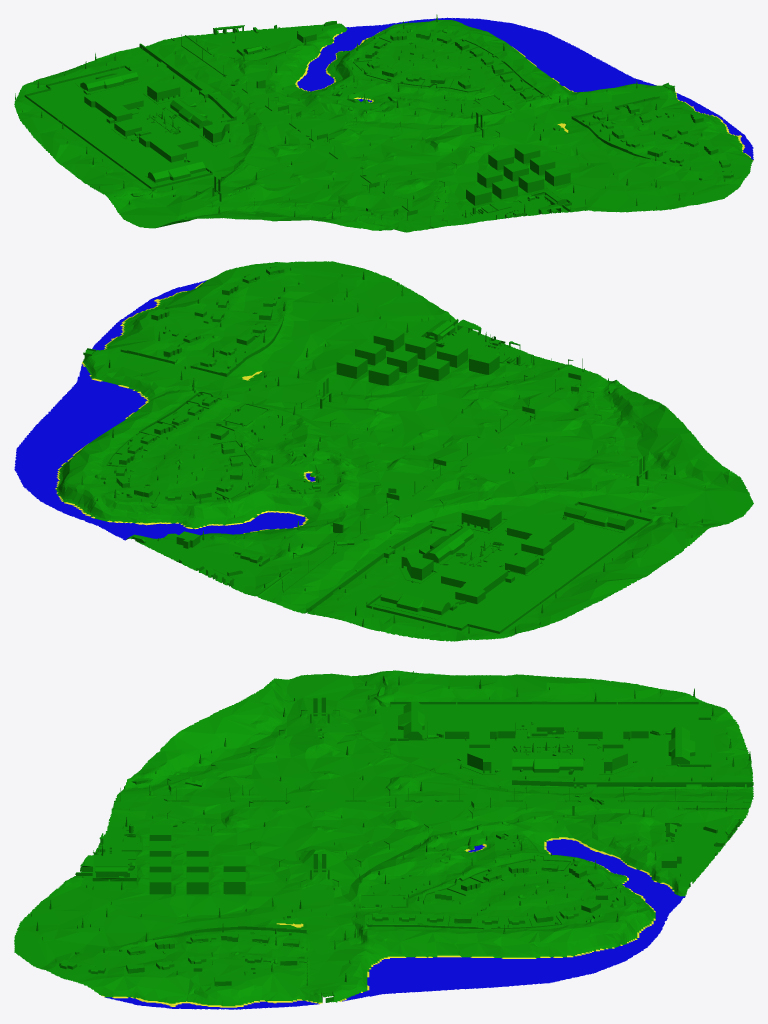
The model's file is preopt.obj.
The picture shows the model from 3 angles, top to bottom: view 1: azimuth 30°, elevation 25°; view 2: azimuth 150°, elevation 25°; view 3: azimuth 270°, elevation 25°; orthographic projection. The views are drawn at different scales.
Parts seen in each view (by area): view 1: ground, deepwater, water; view 2: ground, deepwater, water; view 3: ground, deepwater, water.
Part boxes in pixels (x1,y1,x2,y2): ground: (14,14,752,232); deepwater: (297,17,753,160); water: (295,30,753,160); ground: (56,261,753,641); deepwater: (14,280,315,540); water: (55,282,315,533); ground: (14,670,753,1006); deepwater: (104,839,685,1009); water: (101,837,674,1007).
Size of the model in its own units: 762 by 35.4 by 718.
